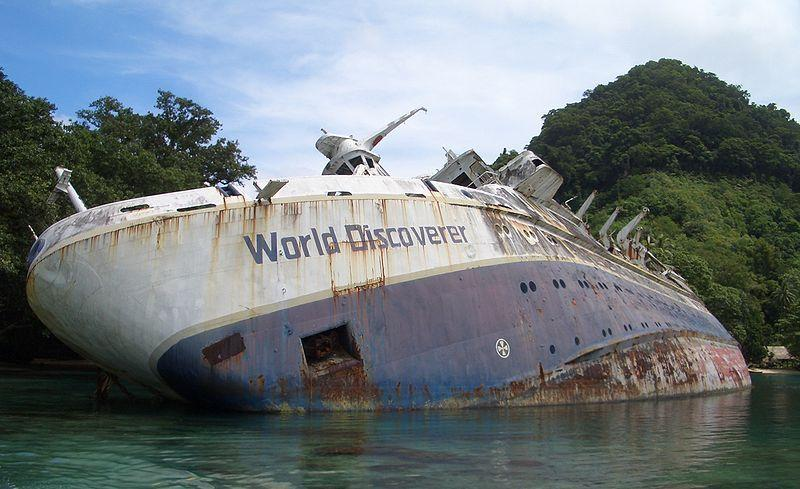rust: (570, 358, 657, 395), (327, 258, 399, 301), (299, 360, 373, 401), (106, 218, 180, 247), (674, 339, 713, 388)
